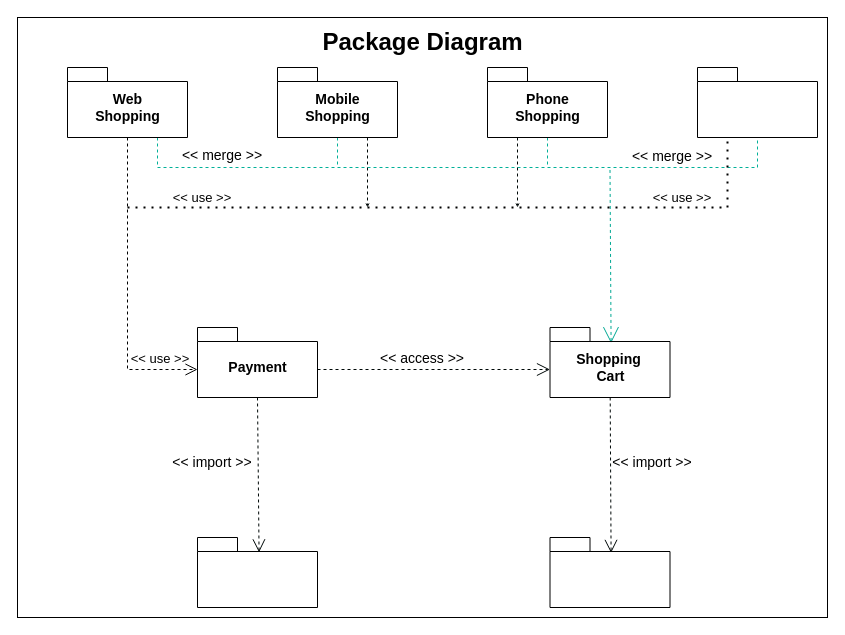
This 845x635 diagram has some shape labels left out. Each missing label, with the box of its shape:
Customer: (196, 536, 318, 608)
Inventory: (549, 536, 670, 608)
Mail Shopping: (696, 66, 818, 138)
